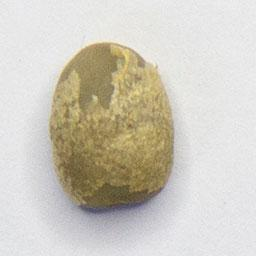premium: (47, 38, 178, 215)
